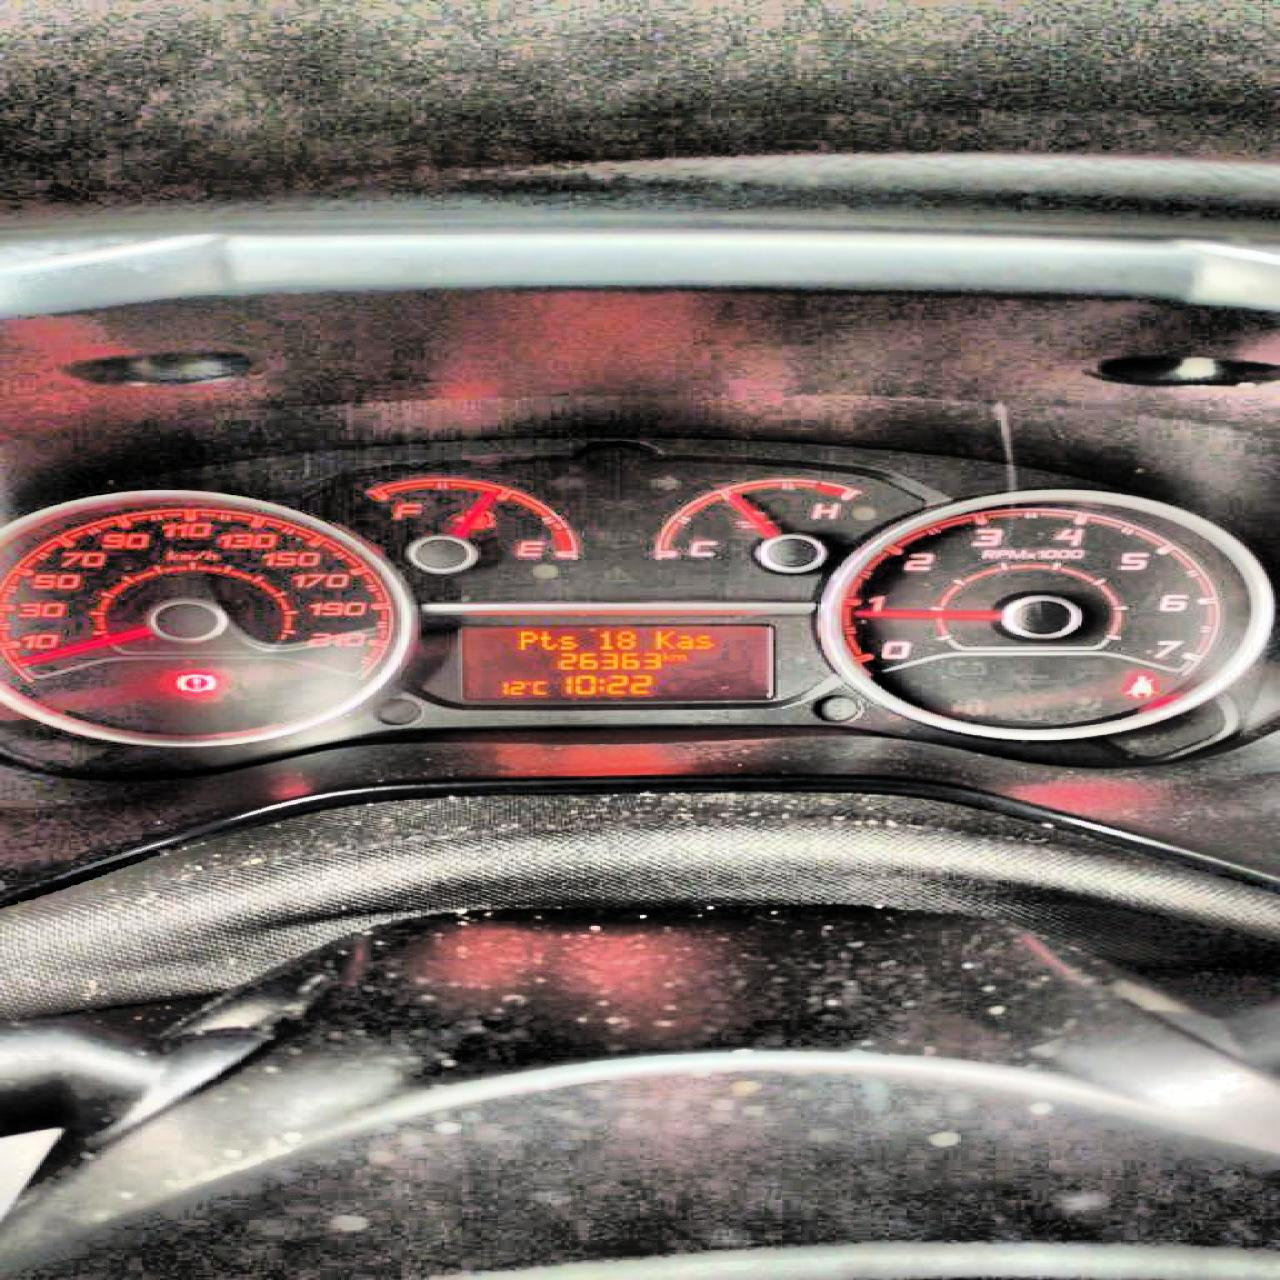0: (573, 674, 593, 694)
1: (598, 629, 613, 649), (561, 674, 571, 694), (501, 680, 506, 694)
2: (629, 673, 651, 694), (605, 674, 626, 694), (556, 651, 576, 670), (506, 680, 523, 695)
3: (640, 651, 658, 669), (600, 652, 618, 669)
6: (578, 652, 595, 669), (620, 652, 638, 669)
8: (613, 629, 635, 651)
X: (648, 627, 673, 647), (536, 629, 556, 651), (517, 629, 536, 649), (673, 634, 692, 651), (556, 633, 576, 648), (531, 679, 549, 695), (693, 633, 712, 648), (595, 676, 605, 692), (672, 653, 687, 661), (660, 651, 669, 660)
odometer: (454, 621, 776, 703)
